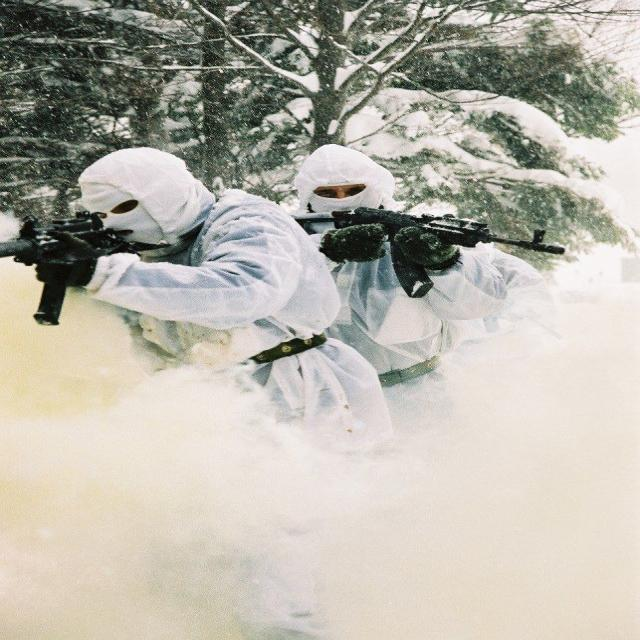Human: (6, 148, 390, 444), (287, 144, 566, 406)
